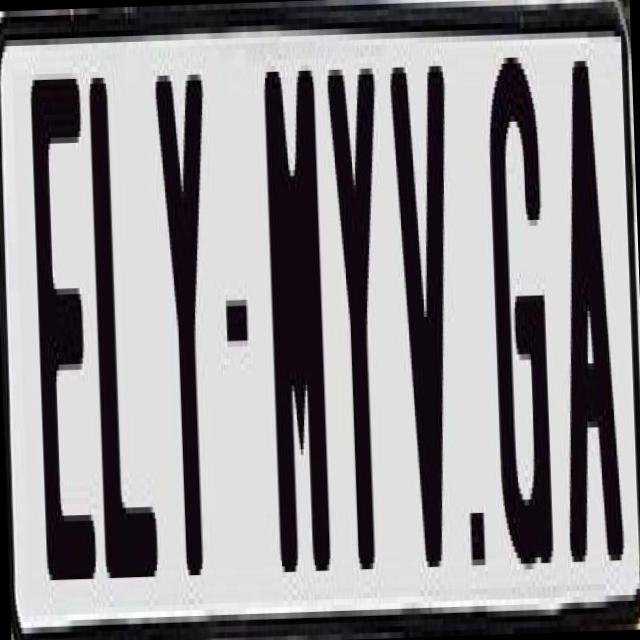A: (548, 48, 626, 556)
E: (28, 60, 100, 586)
G: (484, 50, 561, 582)
L: (84, 75, 160, 596)
M: (260, 58, 331, 561)
V: (389, 59, 468, 590)
Y: (154, 62, 222, 593), (326, 68, 396, 581)
